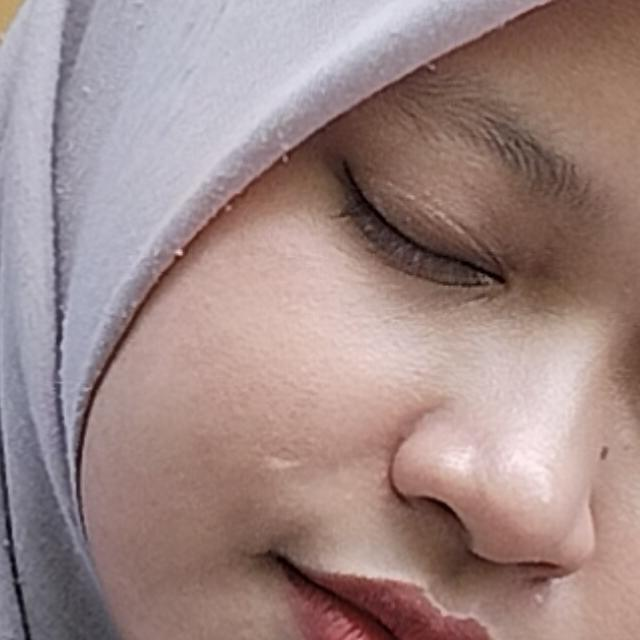tidur: (126, 278, 640, 640)
